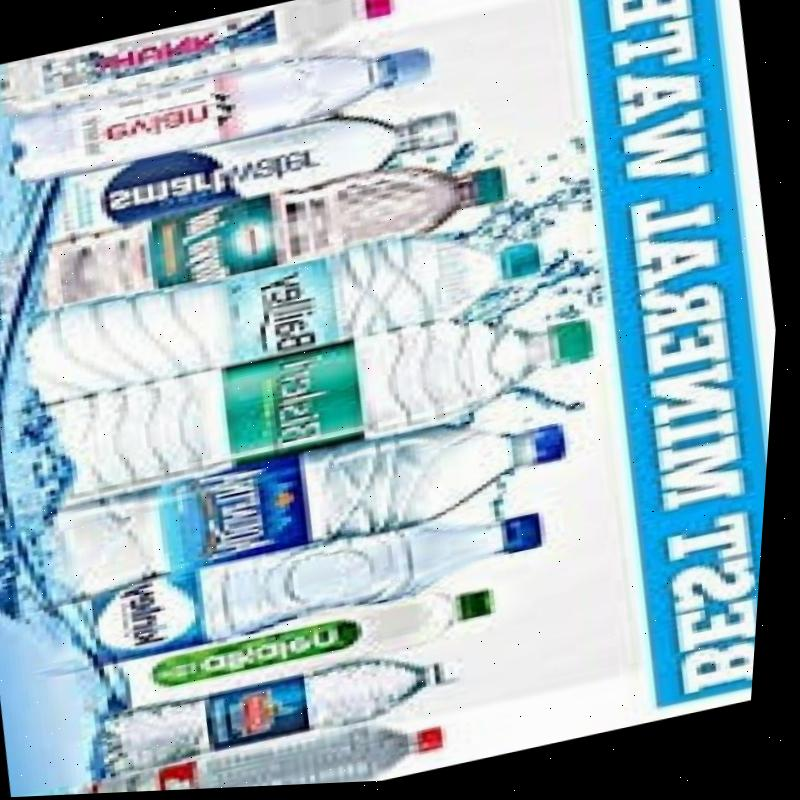botella: (9, 288, 611, 515), (28, 401, 590, 609), (12, 212, 553, 411), (76, 501, 558, 670), (42, 150, 513, 313), (3, 31, 440, 189), (37, 95, 468, 246), (119, 580, 511, 715), (106, 644, 476, 781), (0, 0, 404, 119), (69, 709, 459, 796)
